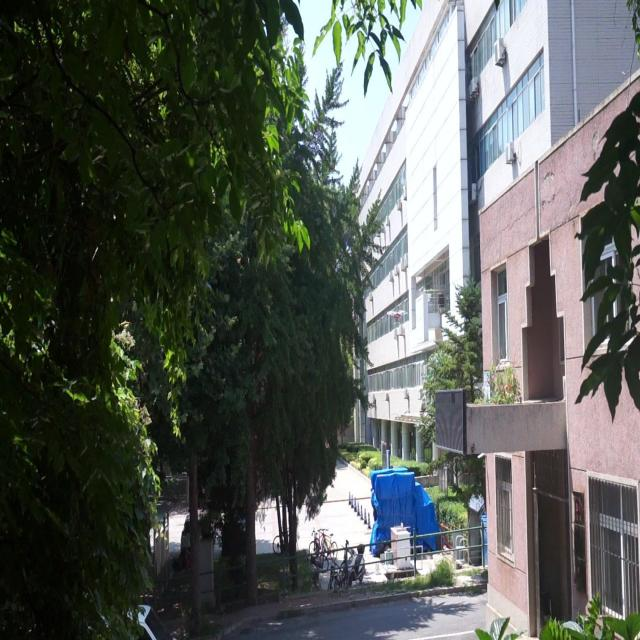UAV: (387, 310, 408, 323)
